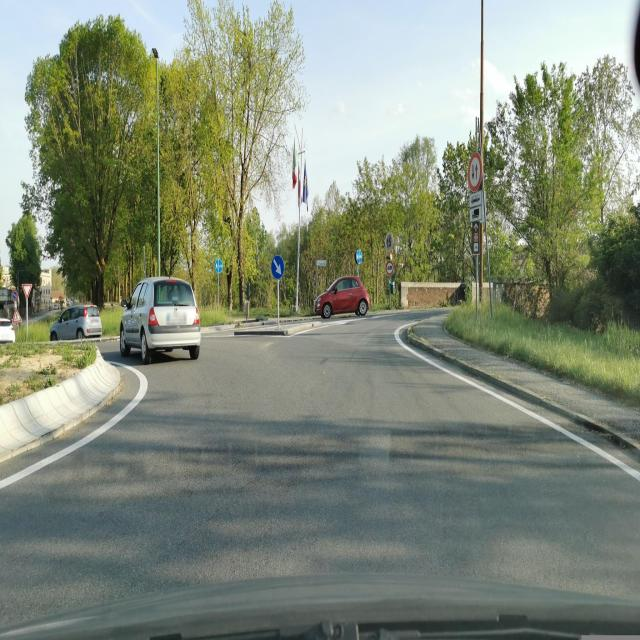car: (119, 276, 201, 363), (314, 275, 370, 319), (48, 302, 102, 341), (0, 317, 15, 348)
